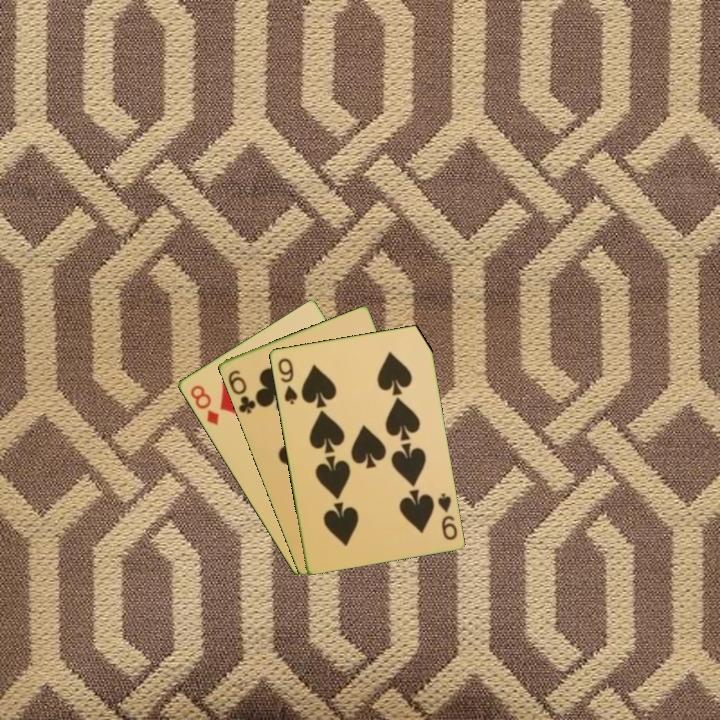6c: (224, 366, 258, 417)
8d: (186, 381, 222, 428)
9s: (434, 489, 460, 543), (274, 354, 300, 407)
